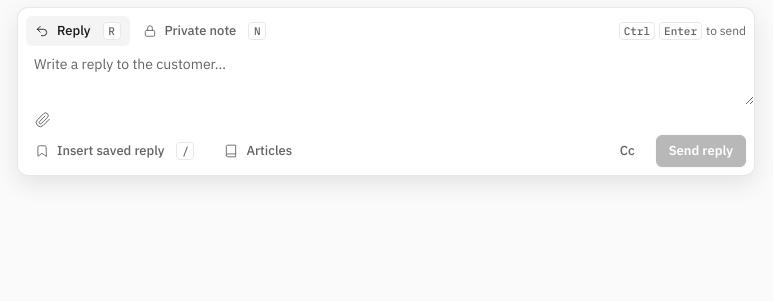
Test: the text clears and the reason goes away once a send succeeds
This screenshot has width=773, height=301.
Type "Second try" into the text box named "Message body" at (386, 76), box [18, 46, 754, 105]
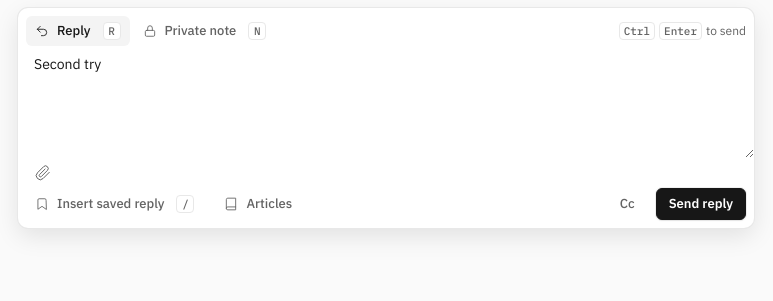
Press Enter in the text box named "Message body", box [18, 46, 754, 158]
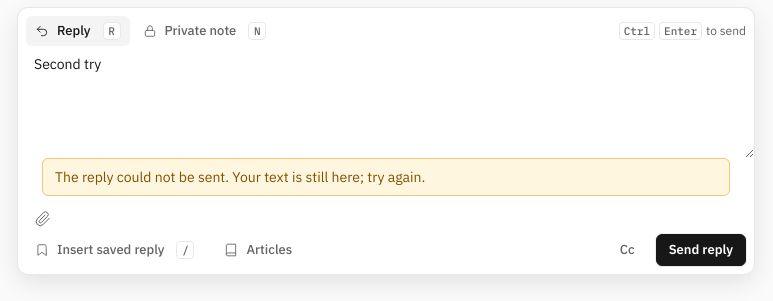
Expected: the message "The reply could not be sent. Your text is still here; try again." is shown, [42, 158, 730, 196]
Press Enter in the text box named "Message body", box [18, 46, 754, 158]
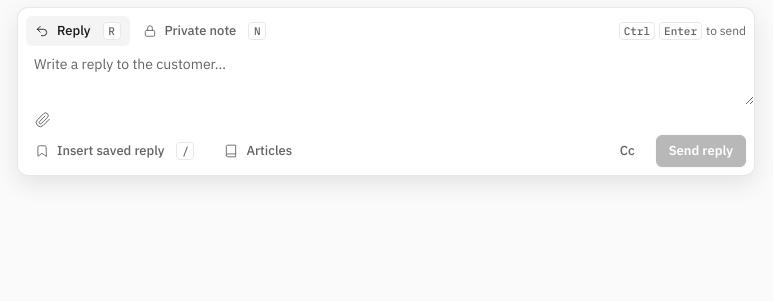
Expected: the text box named "Message body" is empty, [18, 46, 754, 105]
Expected: the message "The reply could not be sent. Your text is still here; try again." is gone
